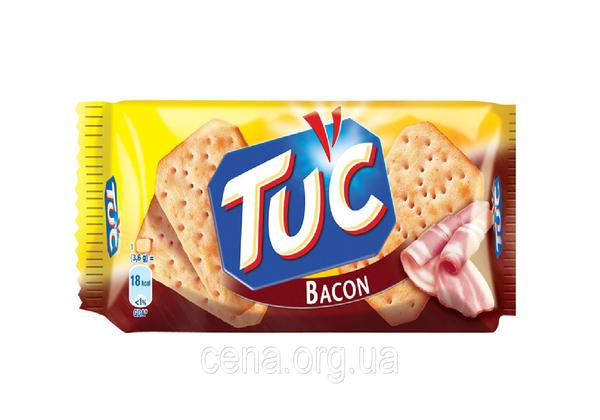crackers tuc: (108, 102, 502, 334)
